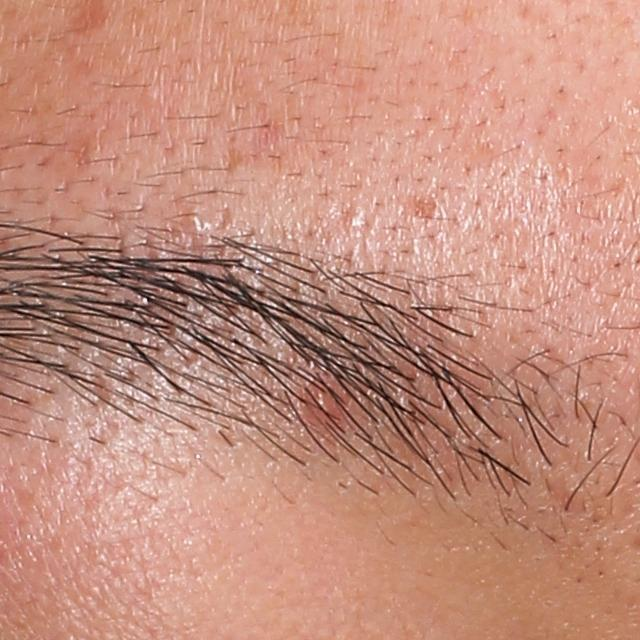papule: (301, 377, 353, 430)
